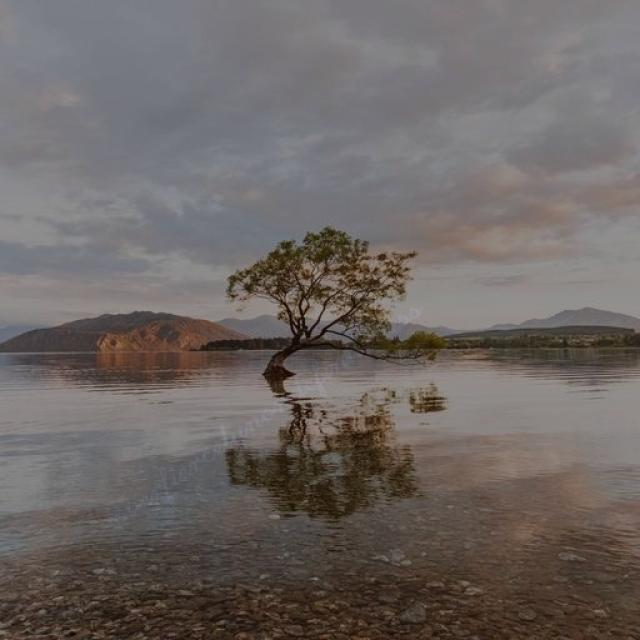watermark: (109, 285, 424, 531)
